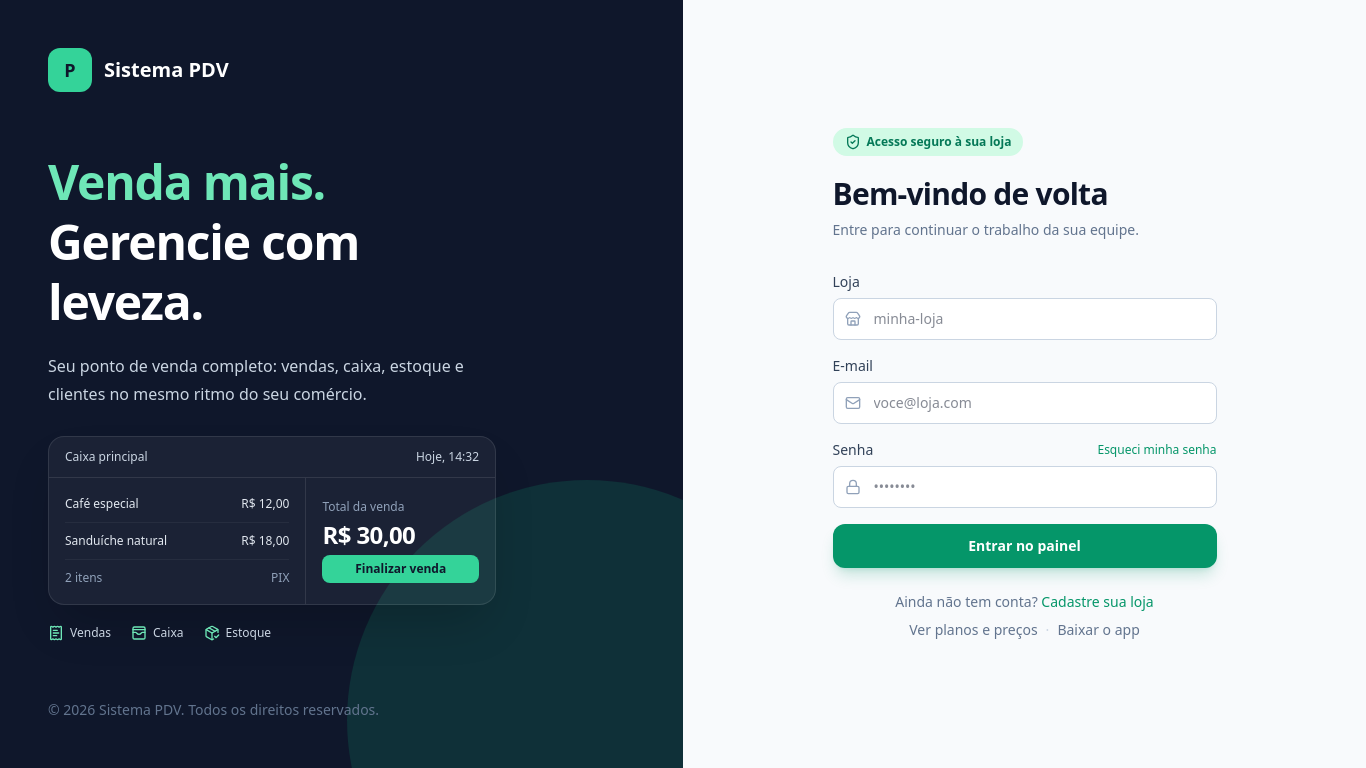
Test: Login › revela o campo de código 2FA quando o erro menciona 2FA
The width and height of the screenshot is (1366, 768).
Step 1. Type "loja-demo" into the field with placeholder "minha-loja" → [1024, 319], box x1=832 y1=298 x2=1216 y2=340
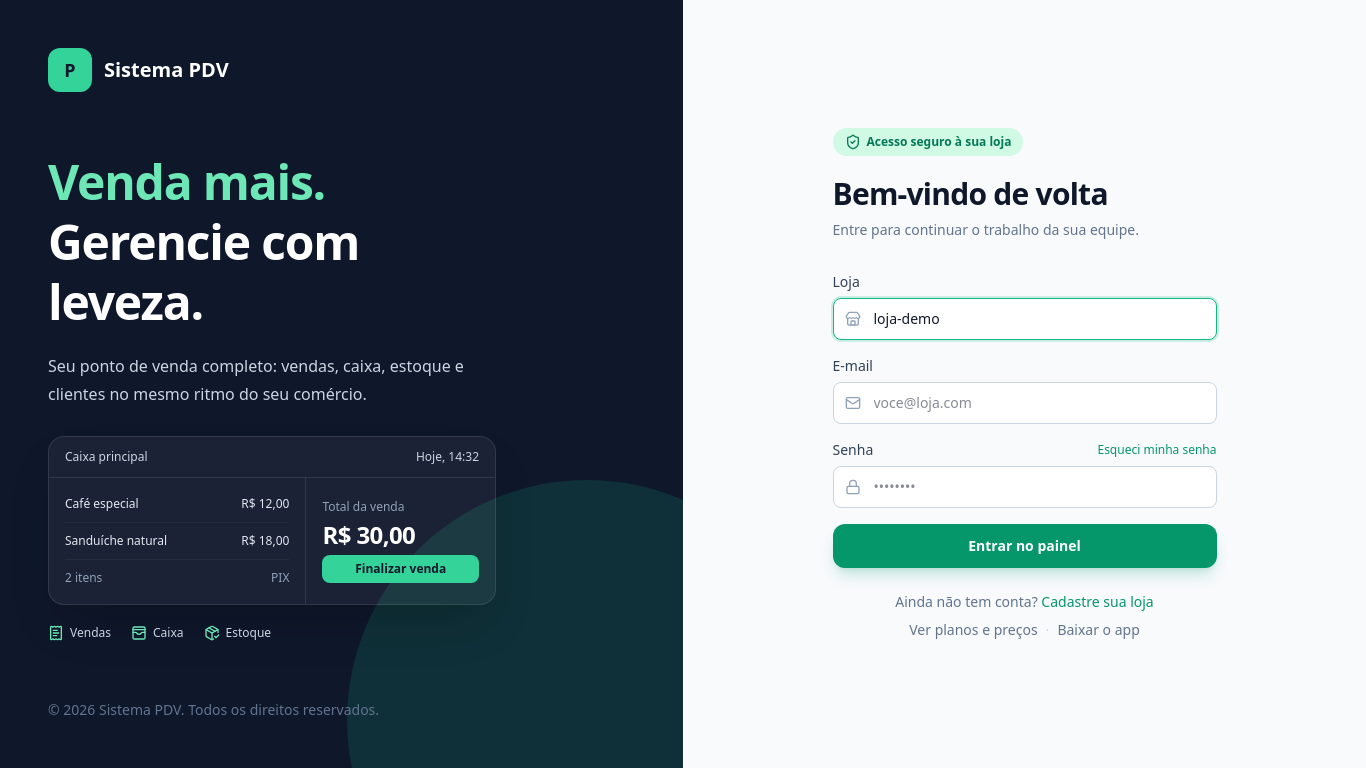
Step 2. Type "demo@example.com" into the field with placeholder "voce@loja.com" → [1024, 403], box x1=832 y1=382 x2=1216 y2=424
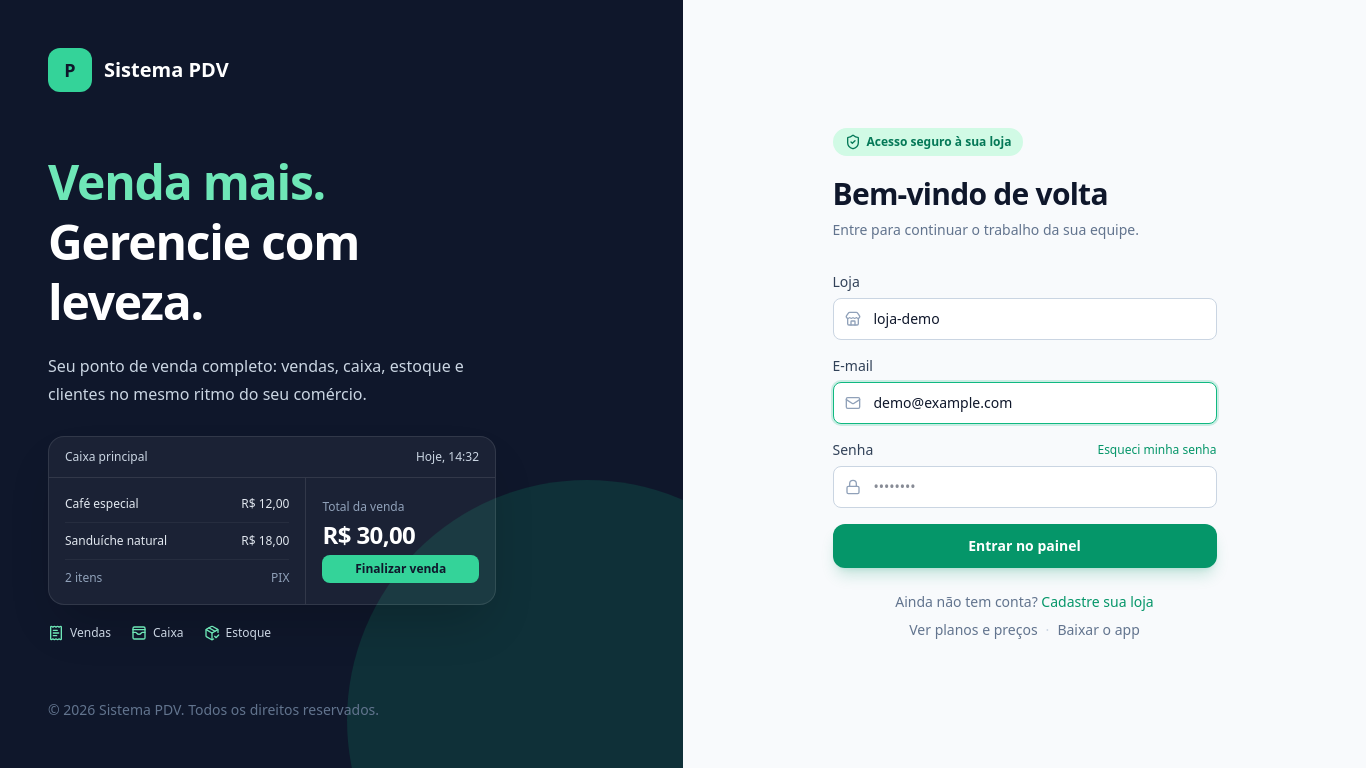
Step 3. Type "Senha123" into the password field with placeholder "••••••••" → [1024, 487], box x1=832 y1=466 x2=1216 y2=508
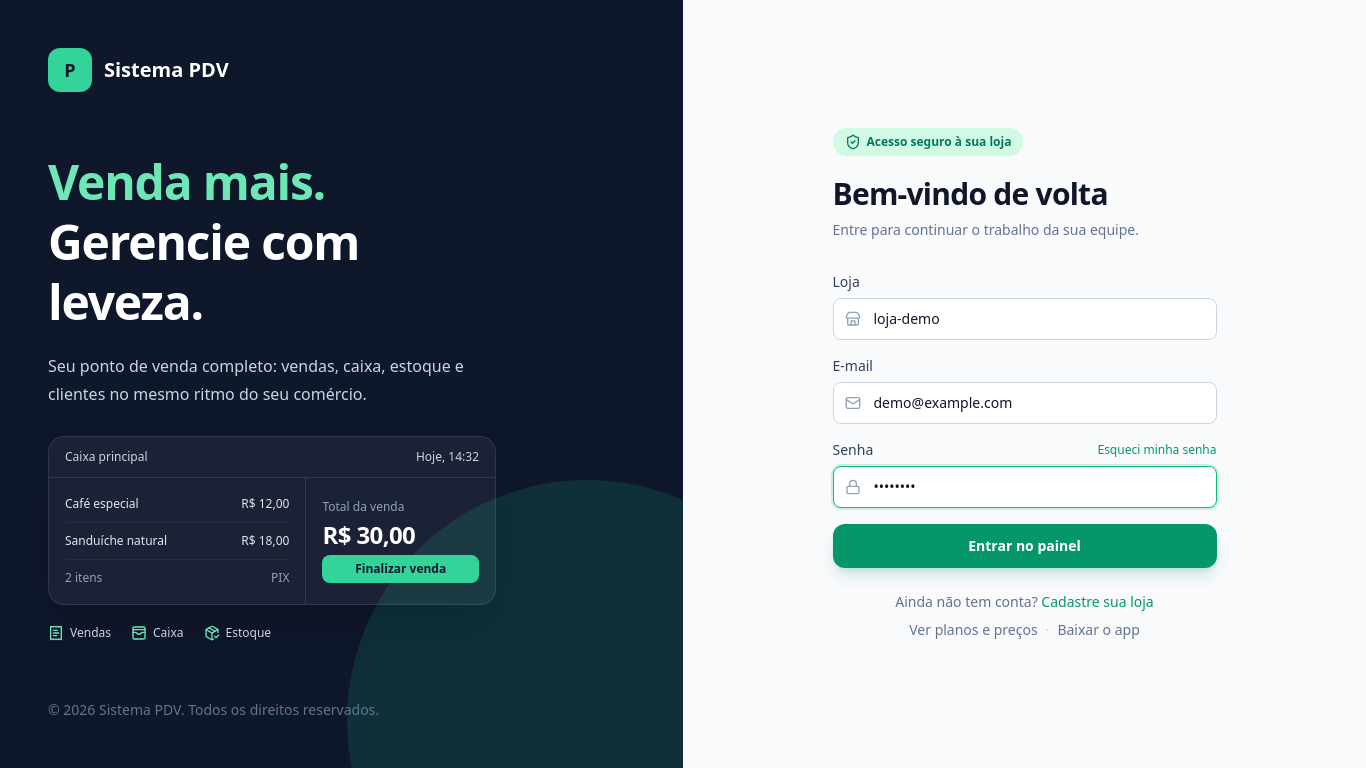
Step 4. Click the button "Entrar no painel" → [1024, 546], box x1=832 y1=524 x2=1216 y2=568
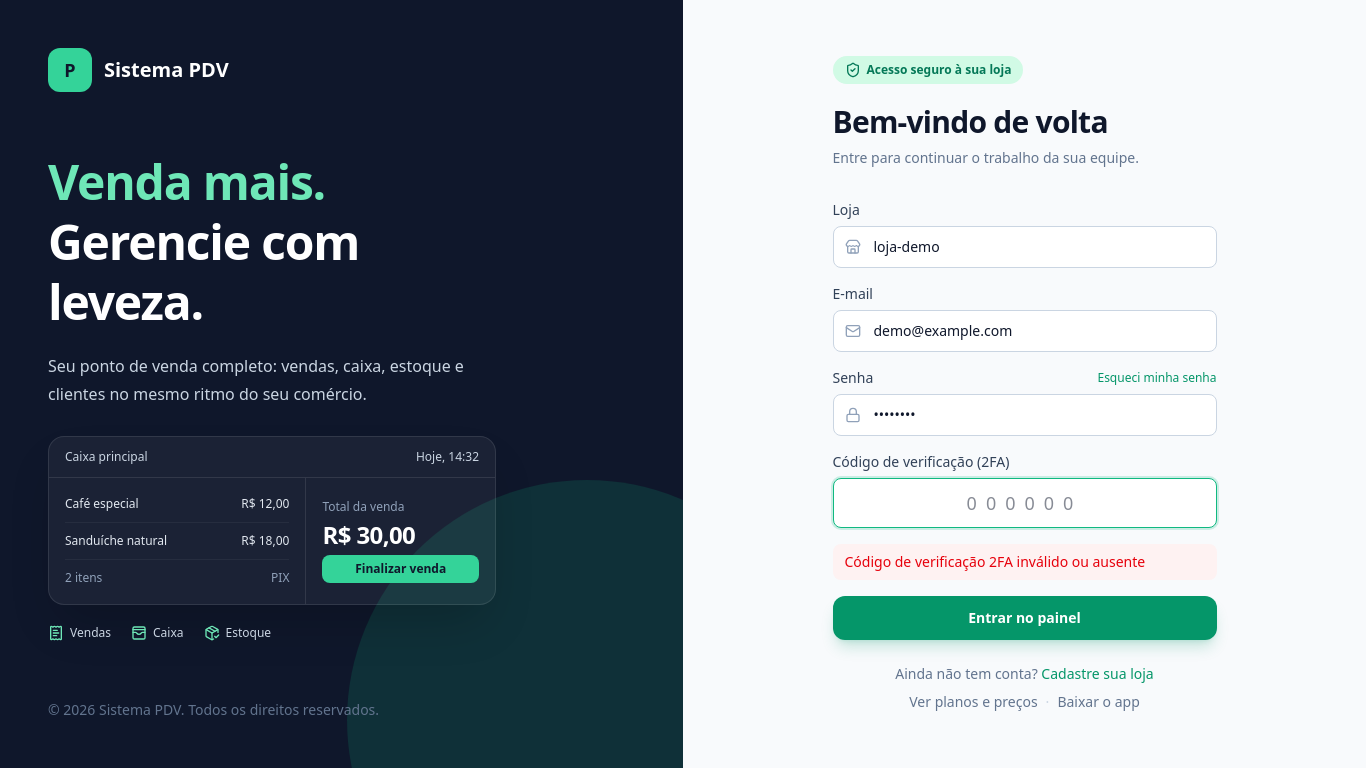
Expected: the text "Código de verificação (2FA)" is shown, x1=832 y1=452 x2=1009 y2=471
